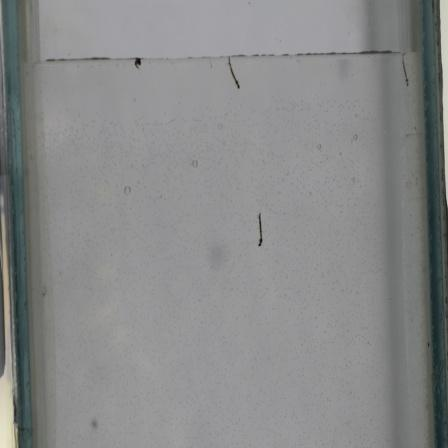Jentik-Nyamuk: (395, 53, 415, 91), (225, 55, 244, 92), (253, 210, 270, 250), (131, 59, 143, 69)
